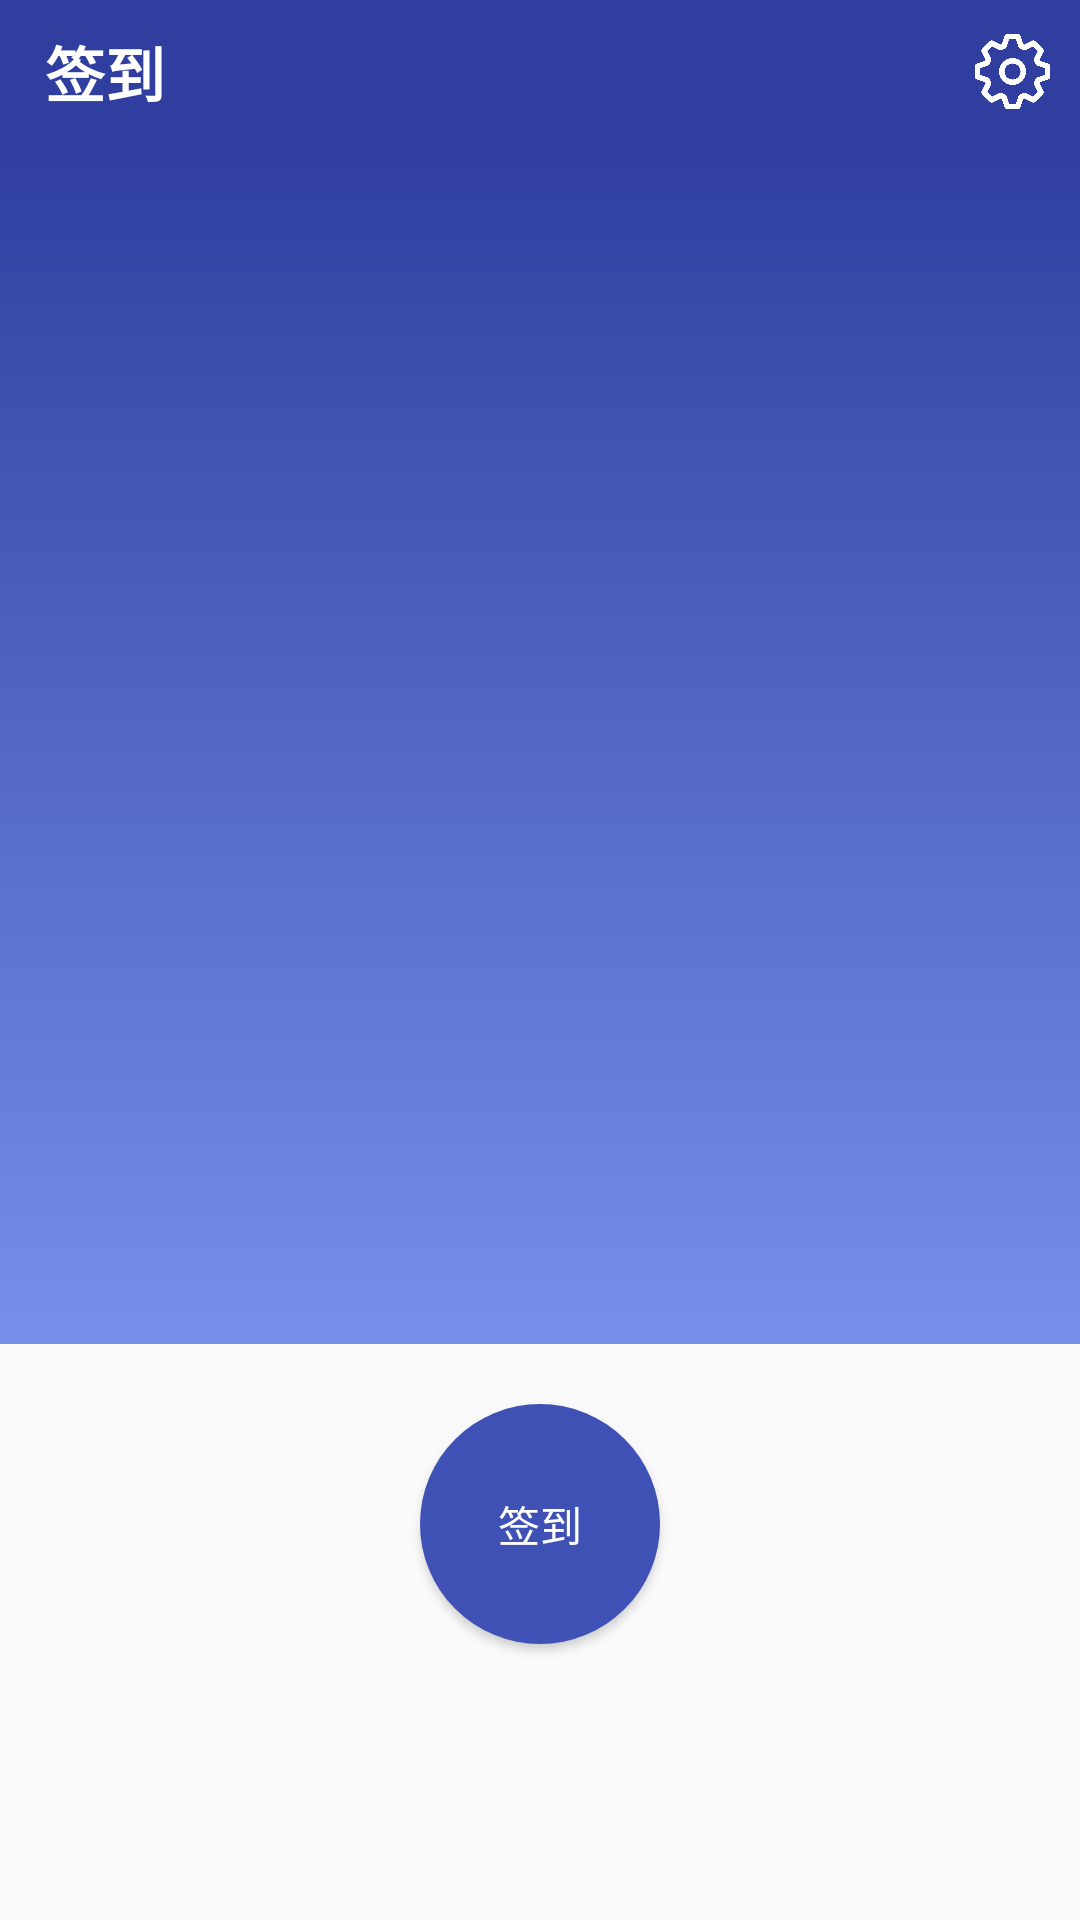

Where to tap for icons on this 1080px×1920px app screen, as (x=x, y=y):
settings: (x=1012, y=71)
